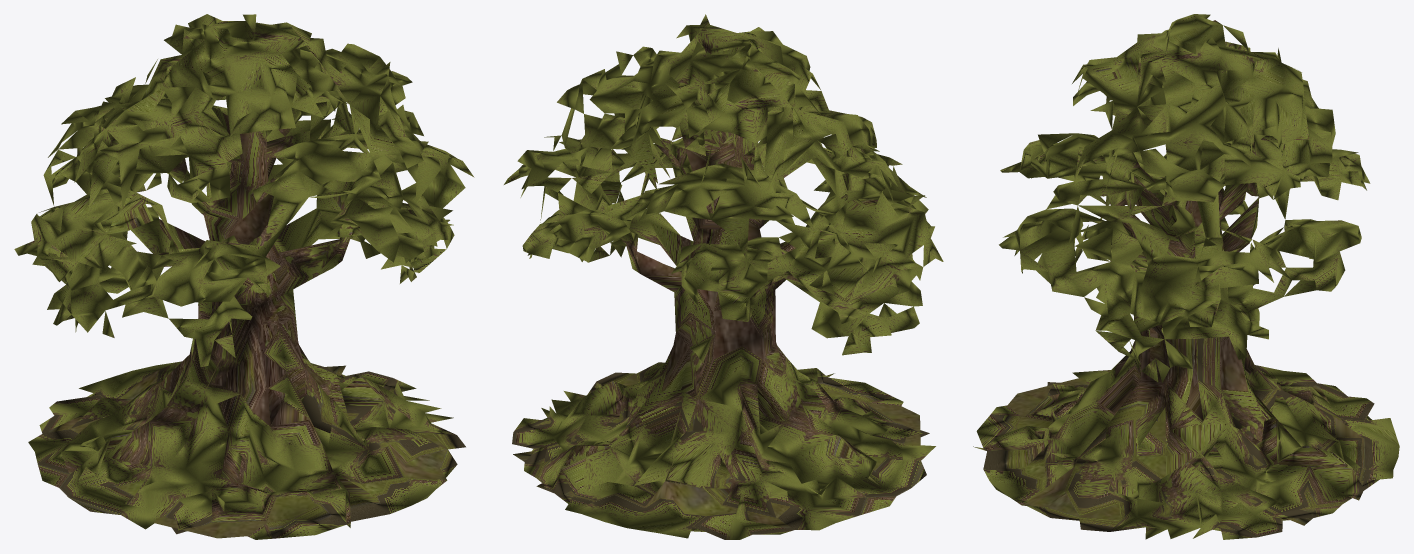
Rendered from tree_woodland_mid.glb.
The picture shows the model from 3 angles, left to right: view 1: azimuth 30°, elevation 25°; view 2: azimuth 150°, elevation 25°; view 3: azimuth 270°, elevation 25°; orthographic projection. The views are drawn at different scales.
Size of the model in its own units: 1.8 by 1.72 by 1.58.
1 material, 1 textured.
